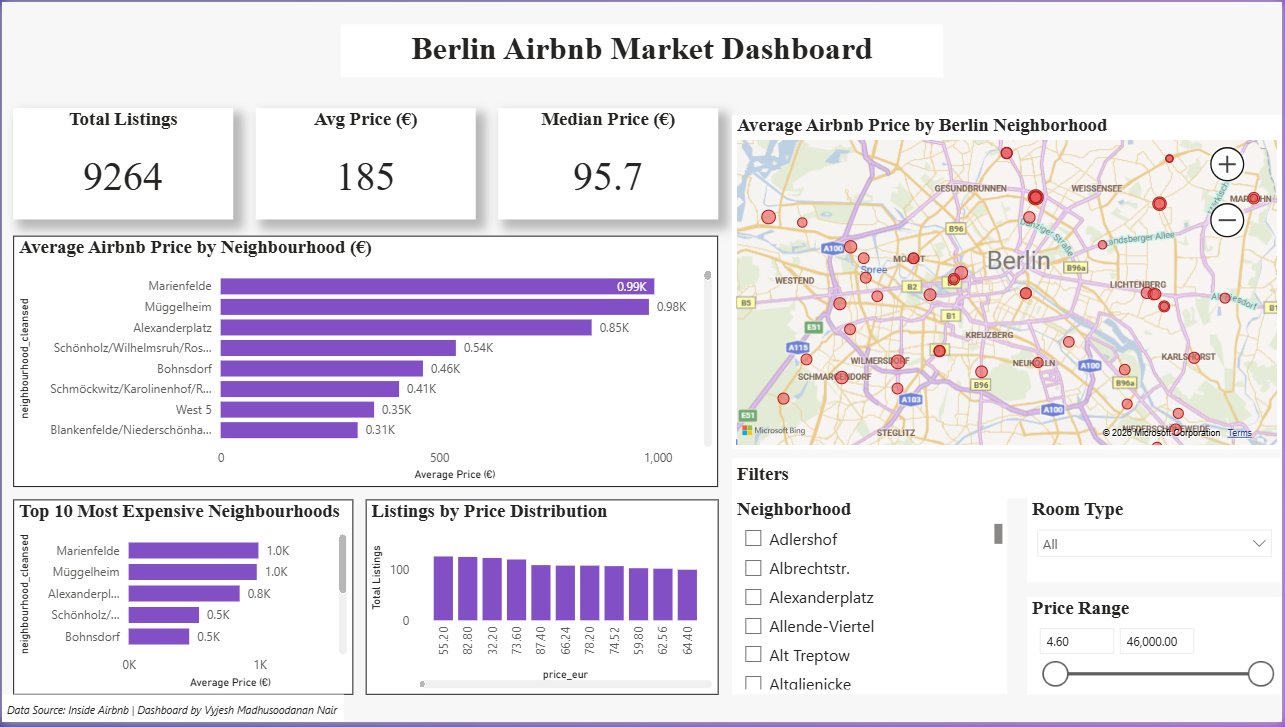

What the dashboard file says about the page in this screenshot:
{"tool":"powerbi","page":{"name":"Page 1","canvas":[1280,720],"ordinal":0},"visuals":[{"type":"card","title":"Total Listings","fields":{"Values":["berlin_airbnb_listings.Total Listings"]},"box":[11.2,106.2,220,111.2],"z":0},{"type":"card","title":"Avg Price (€)","fields":{"Values":["berlin_airbnb_listings.Average Price (€)"]},"box":[253.8,106.2,220,111.2],"z":1000},{"type":"card","title":"Median Price (€)","fields":{"Values":["berlin_airbnb_listings.Median Price (€)"]},"box":[496.2,106.2,220,111.2],"z":2000},{"type":"clusteredBarChart","title":"Average Airbnb Price by Neighbourhood (€)","fields":{"Category":["berlin_airbnb_listings.neighbourhood_cleansed"],"Y":["berlin_airbnb_listings.Average Price (€)"]},"box":[11.2,233.8,705,251.2],"z":3000},{"type":"clusteredBarChart","title":"Top 10 Most Expensive Neighbourhoods","fields":{"Category":["berlin_airbnb_listings.neighbourhood_cleansed"],"Y":["berlin_airbnb_listings.Average Price (€)"]},"box":[11.2,497.5,340,195],"z":4000},{"type":"clusteredColumnChart","title":"Listings by Price Distribution","fields":{"Category":["berlin_airbnb_listings.price_eur"],"Y":["berlin_airbnb_listings.Total Listings"]},"box":[363.8,497.5,352.5,195],"z":5000},{"type":"map","title":"Average Airbnb Price by Berlin Neighborhood","fields":{"Category":["berlin_airbnb_listings.neighbourhood_cleansed"],"Size":["berlin_airbnb_listings.Average Price (€)"]},"box":[729.9,112.2,550.1,335.4],"z":6000},{"type":"slicer","title":"Room Type","fields":{"Values":["berlin_airbnb_listings.room_type"]},"box":[1025,496.2,255,83.8],"z":7000},{"type":"slicer","title":"Neighborhood","fields":{"Values":["berlin_airbnb_listings.neighbourhood_cleansed"]},"box":[730,496.2,275,196.2],"z":8000},{"type":"slicer","title":"Price Range","fields":{"Values":["berlin_airbnb_listings.price_eur"]},"box":[1025,595,255,97.5],"z":9000},{"type":"textbox","box":[338.8,22.5,602.5,52.5],"z":10000},{"type":"textbox","box":[730,456.2,550,40],"z":11000},{"type":"textbox","box":[0,692.5,341.2,27.5],"z":12000}]}

Visuals, with their boxes in screenshot pixels (x1, y1, x2, y2), scaled from the page's 1280x720 canvas onto the 1285x727 screenshot:
"Total Listings" card: crop(11, 107, 232, 220)
"Avg Price (€)" card: crop(255, 107, 476, 220)
"Median Price (€)" card: crop(498, 107, 719, 220)
"Average Airbnb Price by Neighbourhood (€)" clusteredBarChart: crop(11, 236, 719, 490)
"Top 10 Most Expensive Neighbourhoods" clusteredBarChart: crop(11, 502, 353, 699)
"Listings by Price Distribution" clusteredColumnChart: crop(365, 502, 719, 699)
"Average Airbnb Price by Berlin Neighborhood" map: crop(733, 113, 1284, 452)
"Room Type" slicer: crop(1029, 501, 1284, 586)
"Neighborhood" slicer: crop(733, 501, 1009, 699)
"Price Range" slicer: crop(1029, 601, 1284, 699)
textbox: crop(340, 23, 945, 76)
textbox: crop(733, 461, 1284, 501)
textbox: crop(0, 699, 343, 726)
